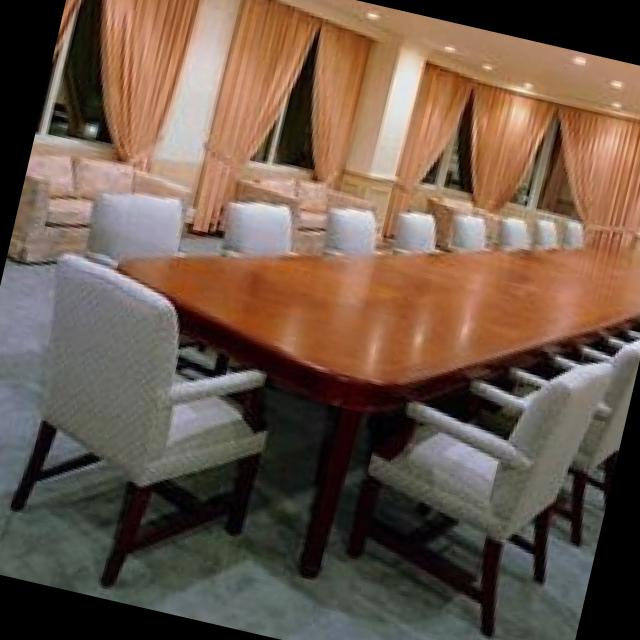2001: (222, 0, 361, 170), (473, 92, 640, 221), (35, 0, 177, 150), (404, 60, 498, 194)
ceiling beam: (286, 0, 640, 110)
ceiling lamps: (439, 39, 455, 51), (603, 76, 620, 87), (363, 7, 378, 19), (568, 52, 584, 59)
chair: (87, 186, 176, 254), (222, 201, 285, 248), (321, 206, 371, 248), (390, 215, 432, 249), (445, 217, 481, 244), (498, 215, 525, 243), (531, 219, 554, 238), (561, 220, 577, 242)
chair -occluded-: (8, 252, 265, 582), (345, 363, 608, 631)
column: (341, 41, 421, 216)
conference table: (119, 242, 640, 573)
curtain crop: (186, 0, 315, 227), (96, 0, 197, 169), (380, 59, 468, 231), (557, 105, 640, 241), (468, 81, 550, 209), (306, 20, 364, 181)
sofa bed: (8, 150, 187, 258), (236, 176, 371, 246)
